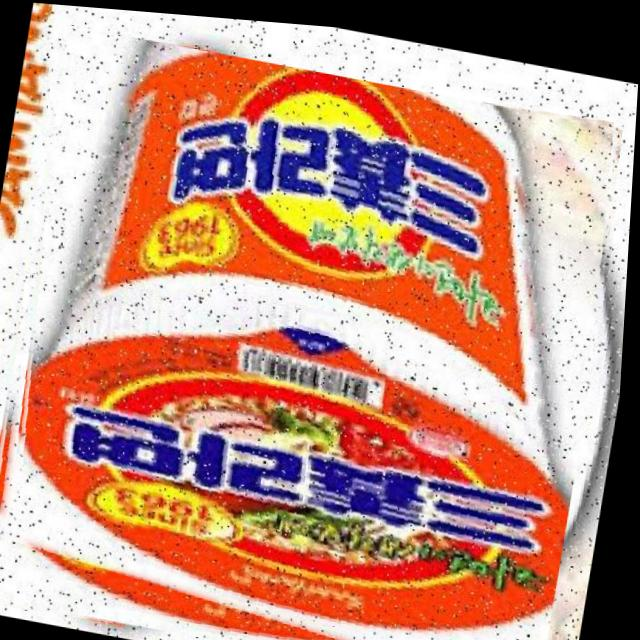Miscellaneous: (0, 18, 633, 640)
